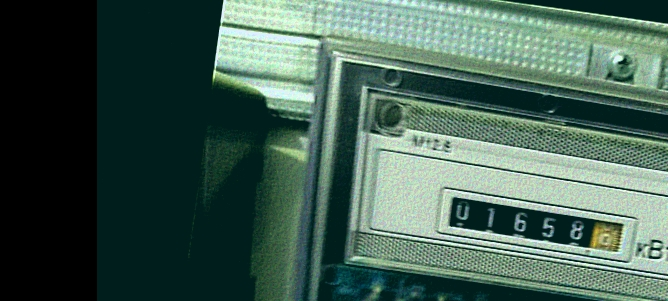0: (454, 199, 473, 222)
1: (483, 204, 500, 230)
5: (540, 214, 559, 240)
6: (511, 209, 532, 236)
8: (568, 218, 588, 242)
9: (596, 230, 614, 253)
screen: (432, 183, 644, 269)
